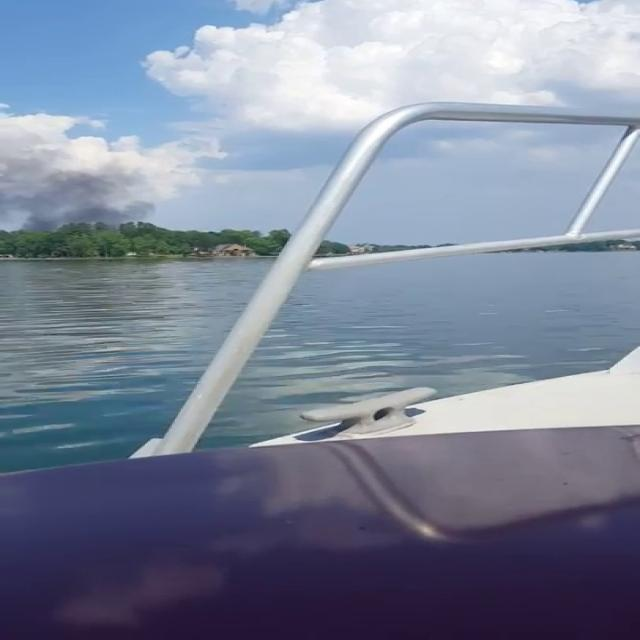Smoke: (2, 156, 174, 233)
